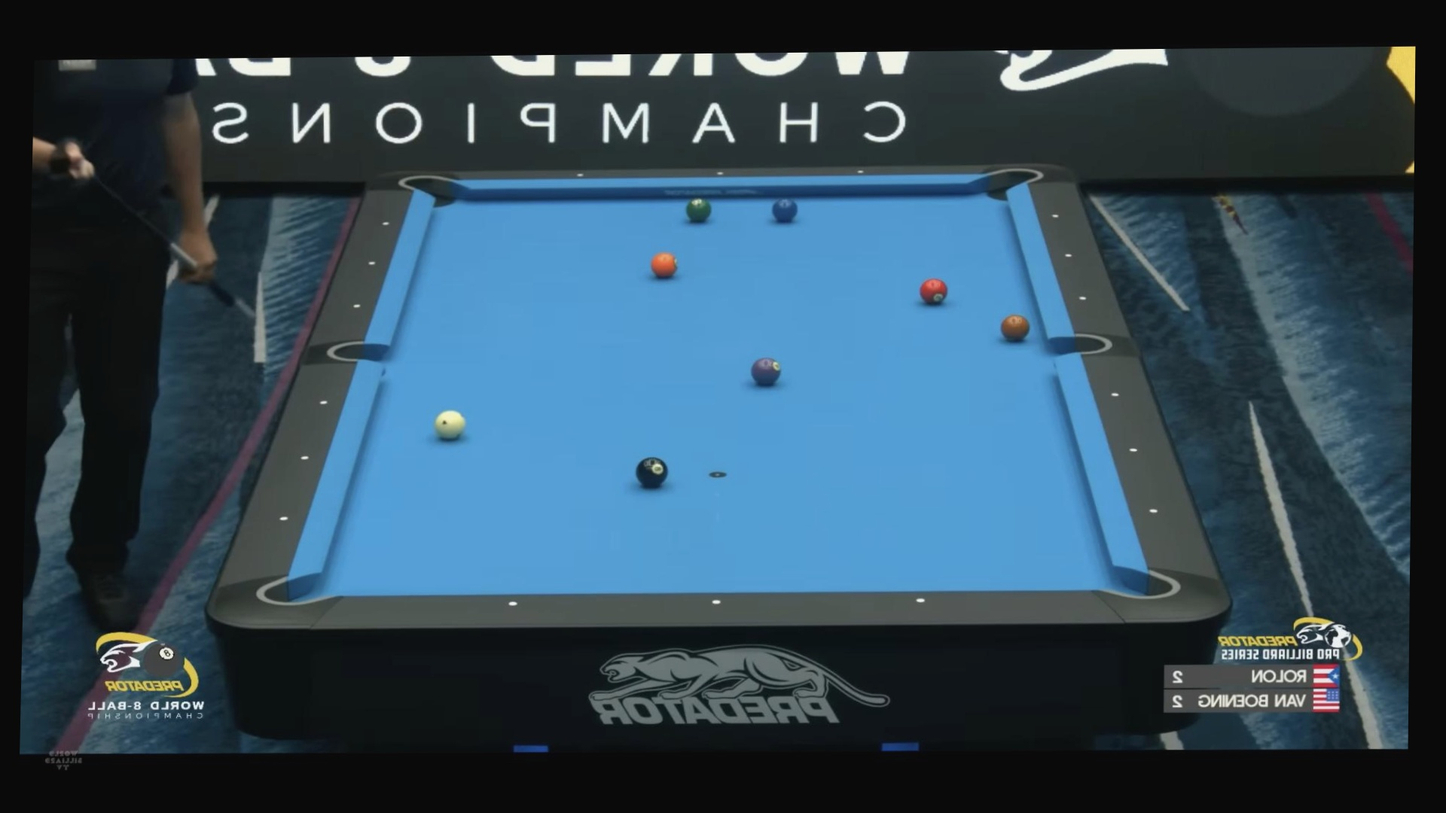Black: (915, 595, 927, 607), (709, 597, 722, 608), (506, 598, 519, 609), (278, 513, 290, 524), (299, 453, 311, 464), (318, 398, 330, 408), (1127, 446, 1138, 455), (1110, 391, 1121, 400), (1149, 506, 1159, 515), (367, 259, 376, 268), (1078, 294, 1087, 302), (1064, 251, 1073, 259), (1051, 212, 1060, 220), (353, 302, 362, 310), (381, 220, 390, 228), (576, 171, 584, 179), (856, 168, 865, 175), (716, 170, 724, 177)
Cue: (750, 357, 781, 385), (1000, 314, 1030, 341), (650, 251, 678, 279), (919, 277, 948, 304), (686, 197, 712, 221), (772, 199, 798, 222)
Solid: (635, 456, 669, 488)
Stripe: (434, 409, 467, 439)
